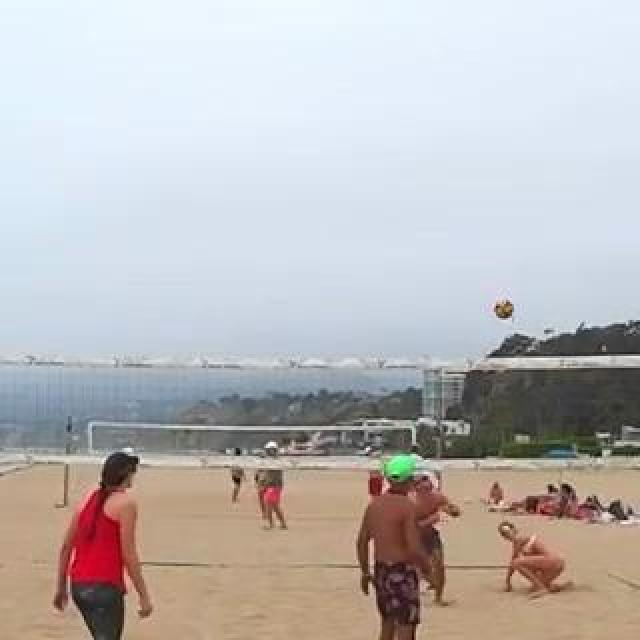volleyball: (494, 297, 514, 319)
